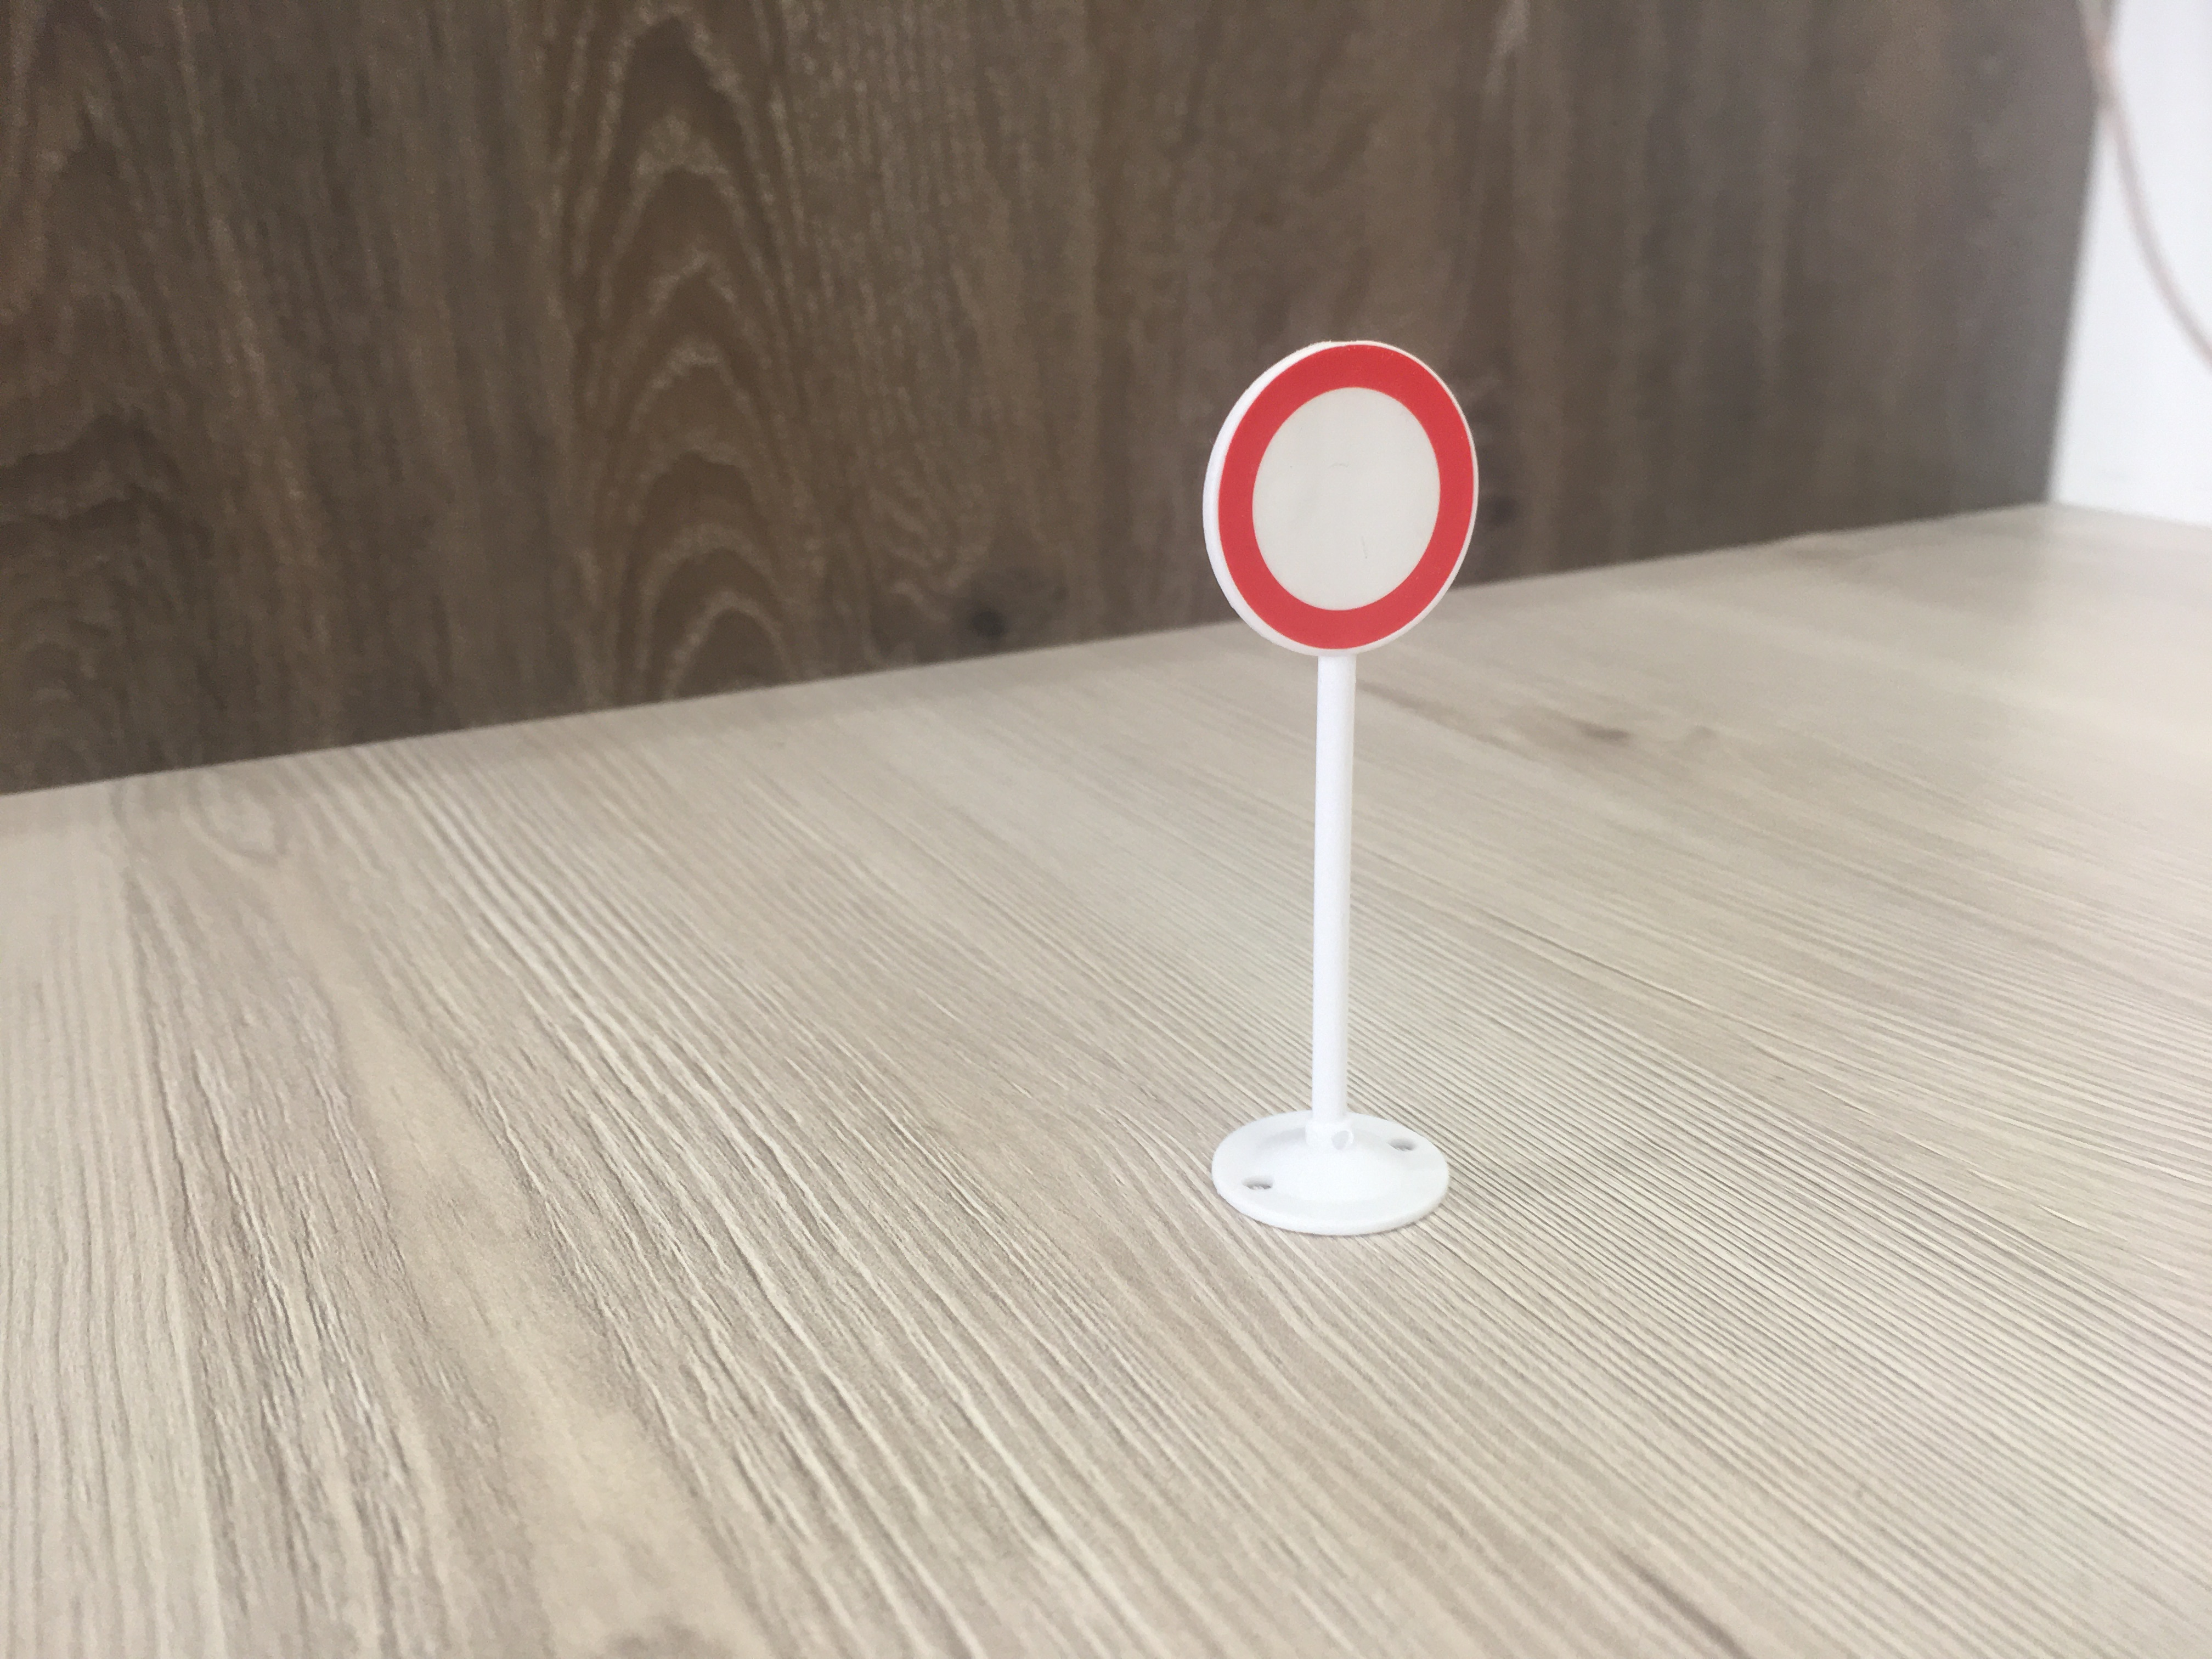noDrive: (1193, 342, 1482, 667)
